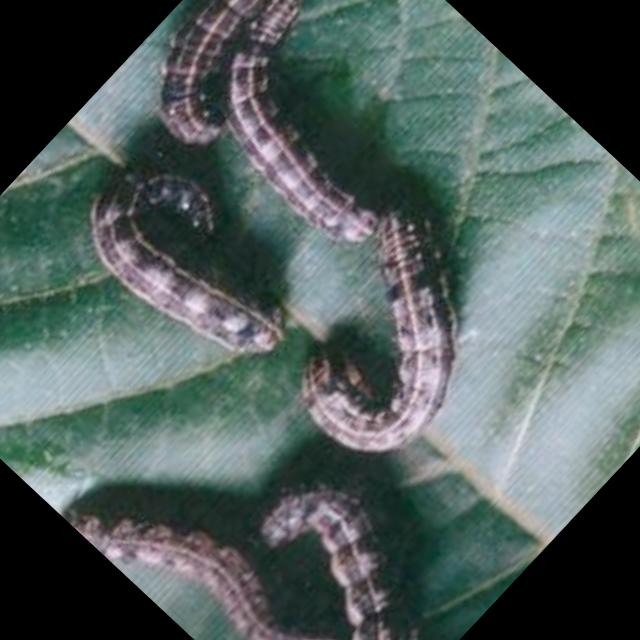Tobacco cutworm: (218, 161, 578, 524), (0, 100, 331, 428), (159, 0, 492, 294), (49, 413, 369, 640), (158, 439, 491, 640), (108, 0, 427, 193)
